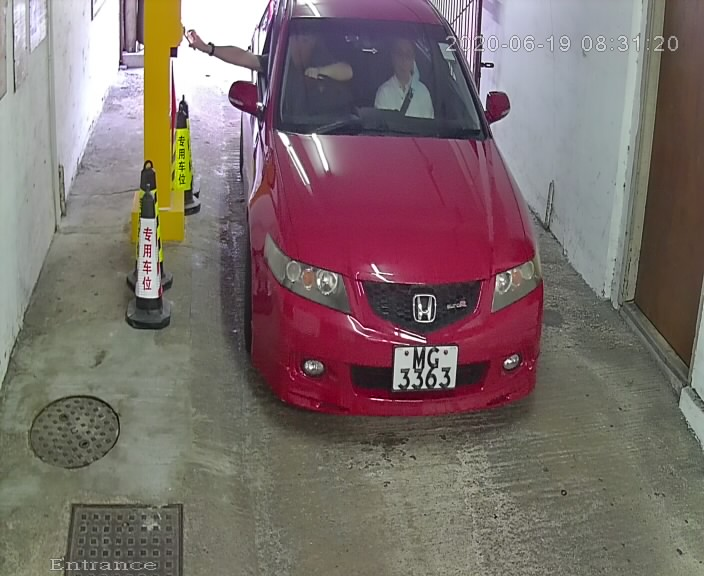bottom_left_lp: (390, 383, 399, 394)
bottom_left_radiator: (364, 307, 379, 318)
bottom_left_windshield: (274, 114, 284, 126)
bottom_right_lp: (449, 380, 459, 389)
bottom_right_radiator: (466, 307, 481, 320)
bottom_right_windshield: (468, 122, 489, 131)
brand: (411, 292, 439, 325)
left_headlight: (262, 237, 354, 317)
right_headlight: (490, 245, 546, 316)
top_left_lp: (394, 343, 398, 355)
top_left_radiator: (355, 273, 367, 286)
top_left_windshield: (284, 12, 295, 30)
top_right_lp: (452, 340, 463, 353)
top_right_radiator: (476, 274, 488, 289)
top_right_windshield: (438, 15, 452, 33)
